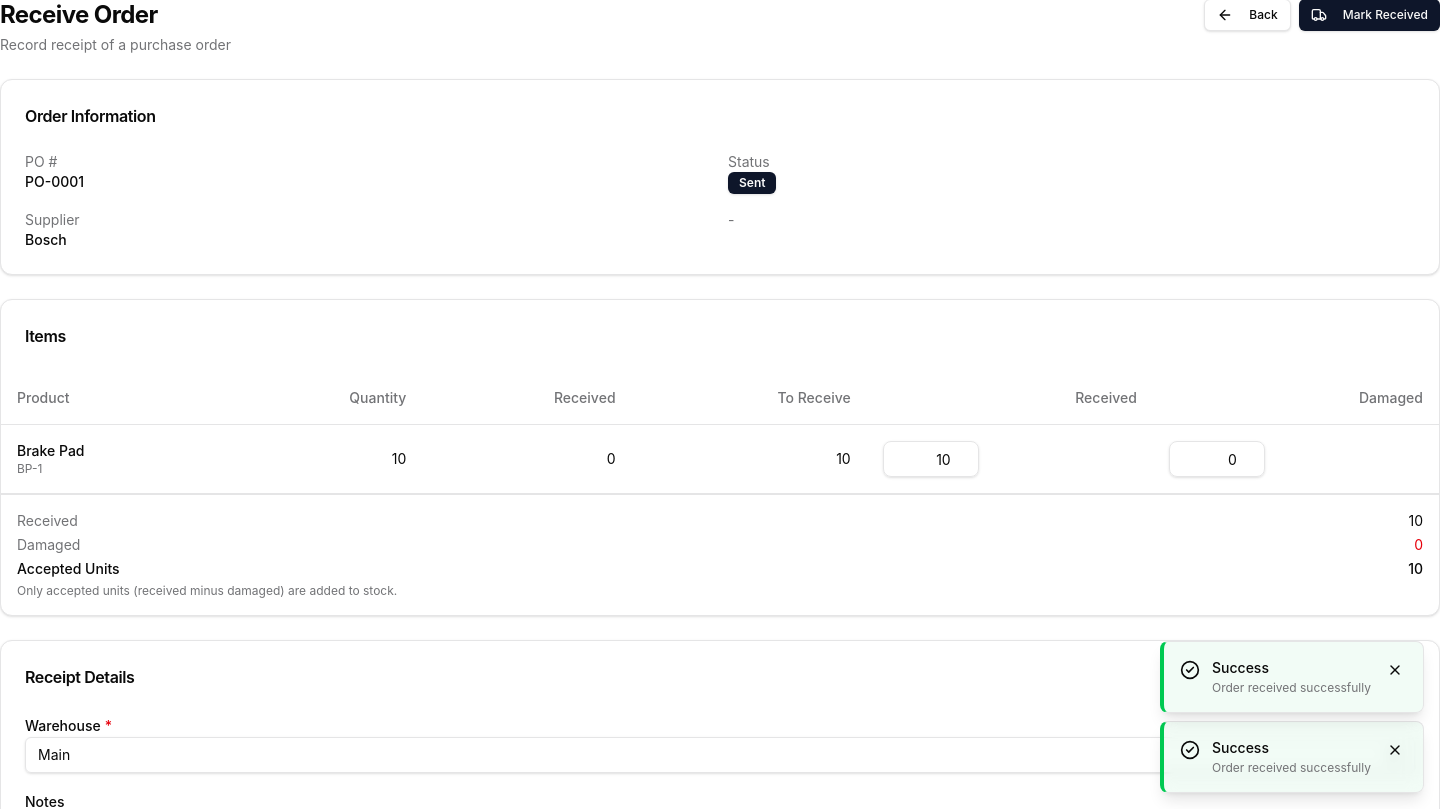
Test: BUG-011 the receive page the workflow was missing › refuses a line that claims more than was ordered
This screenshot has width=1440, height=809.
Step 1. Replace the text in the number field named "Received" with "11" → [931, 459], box 883,441 -> 979,477
(page scrolled)
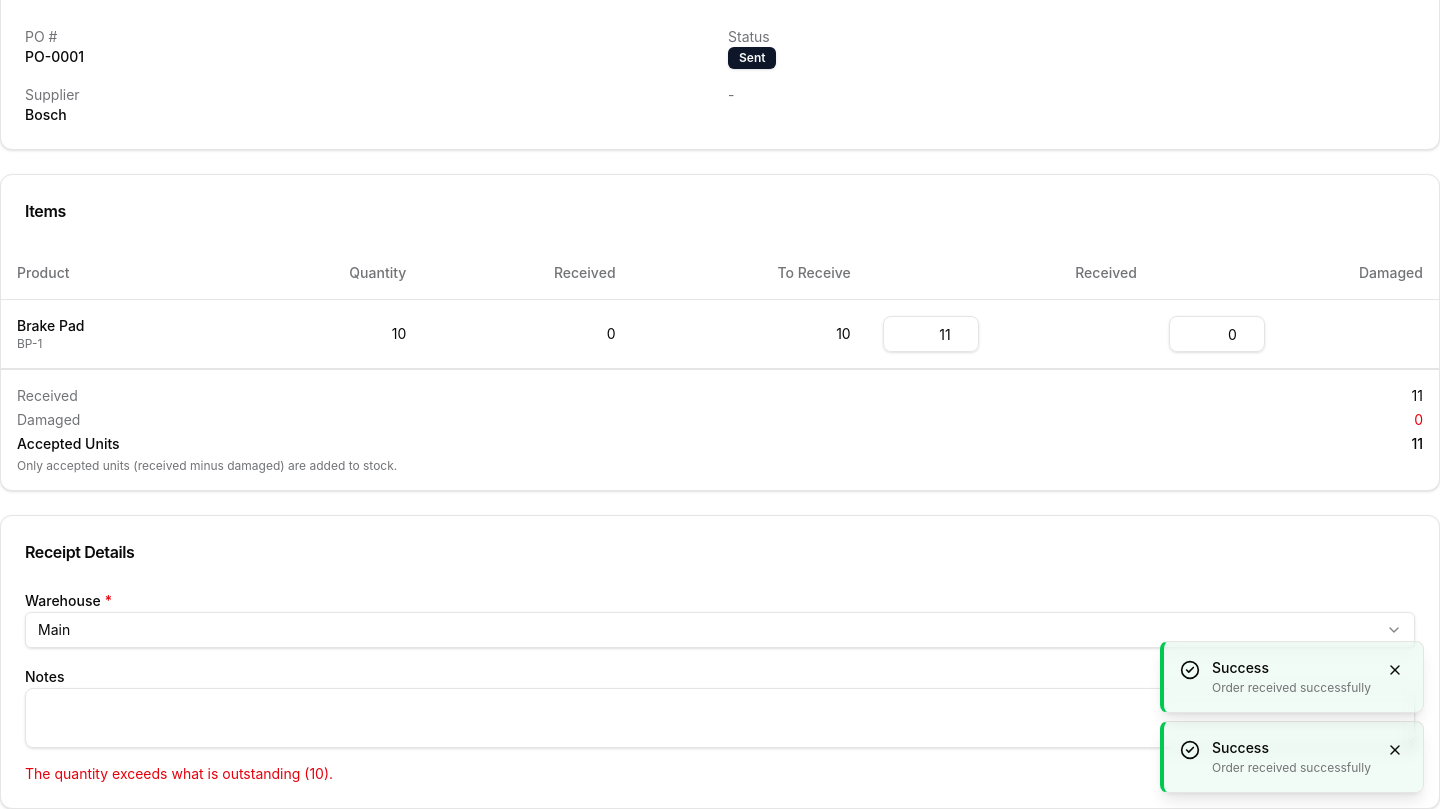
Check: the list item "The quantity exceeds what is outstanding (10)." is shown, box 25,765 -> 333,782
